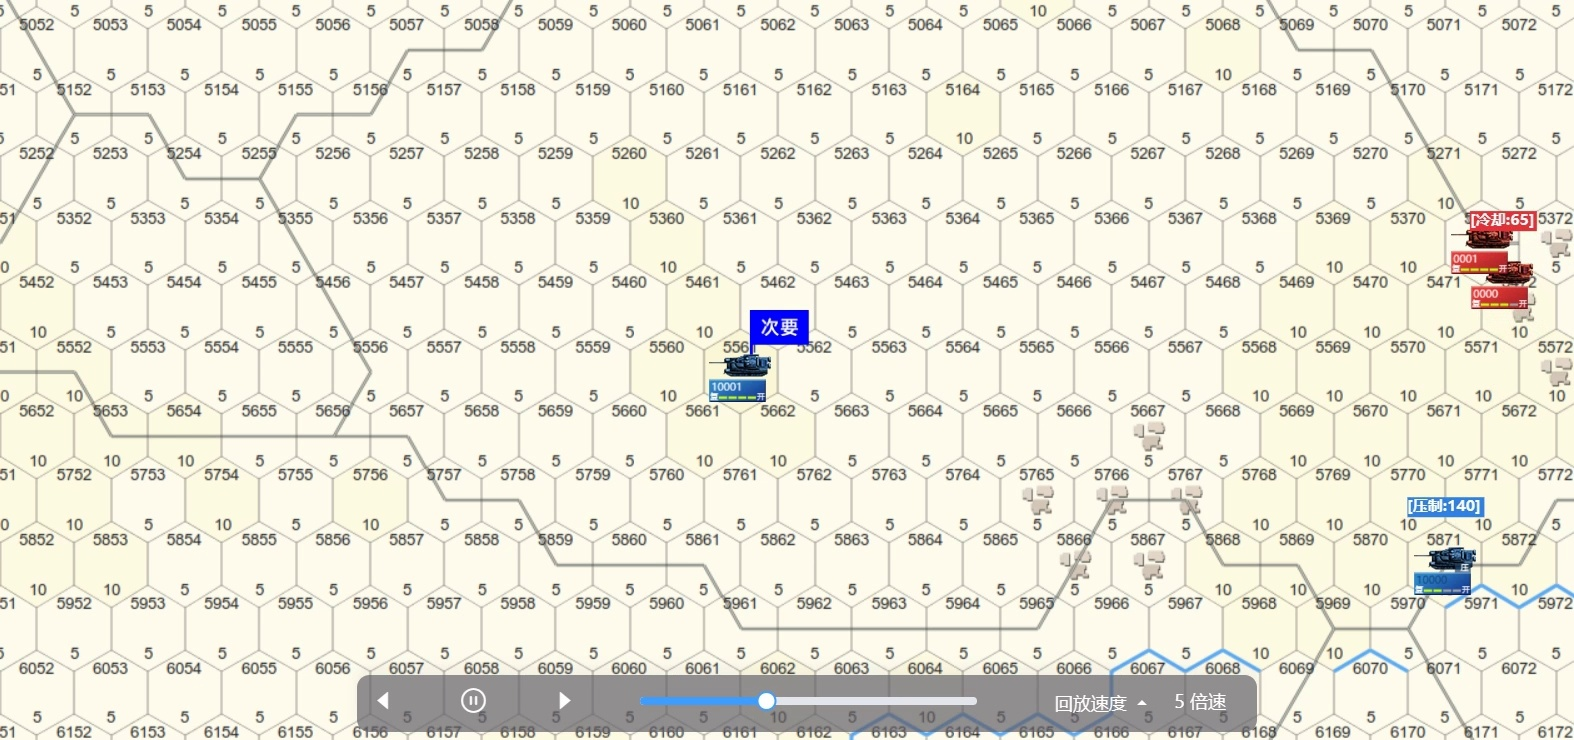blue_tank: (713, 352, 778, 408), (1422, 551, 1471, 591)
red_tank: (1475, 265, 1529, 314), (1451, 234, 1514, 274)
